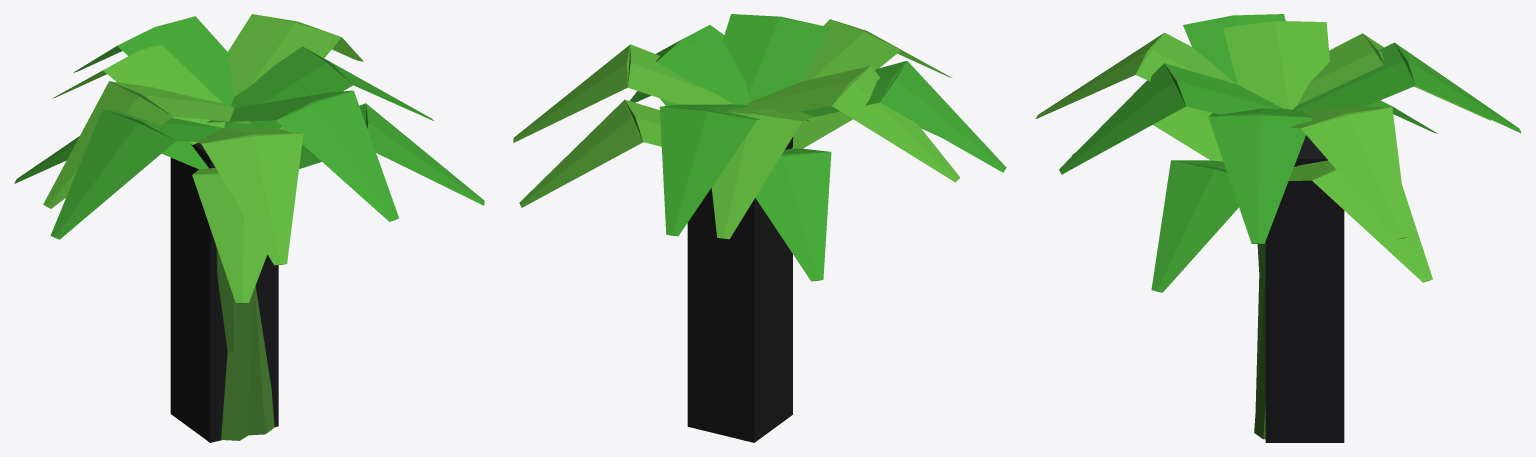
The model's file is env_kb_banana_plant.fbx.
3 views of the same model, side by side, from view 1: azimuth 30°, elevation 25°; view 2: azimuth 150°, elevation 25°; view 3: azimuth 270°, elevation 25° (orthographic). The views are drawn at different scales.
Parts seen in each view (by area): view 1: env_kb_banana_plant_geo_LOD0, COL_env_kb_banana_plant; view 2: env_kb_banana_plant_geo_LOD0, COL_env_kb_banana_plant; view 3: env_kb_banana_plant_geo_LOD0, COL_env_kb_banana_plant.
Part boxes in pixels (<box>): env_kb_banana_plant_geo_LOD0: <box>14,14,484,440</box>; COL_env_kb_banana_plant: <box>170,143,278,442</box>; env_kb_banana_plant_geo_LOD0: <box>513,14,1006,281</box>; COL_env_kb_banana_plant: <box>687,137,792,442</box>; env_kb_banana_plant_geo_LOD0: <box>1036,14,1521,439</box>; COL_env_kb_banana_plant: <box>1265,135,1344,442</box>.
Size of what is drawn, in the model's own units: 3.59 by 3.03 by 3.72.
